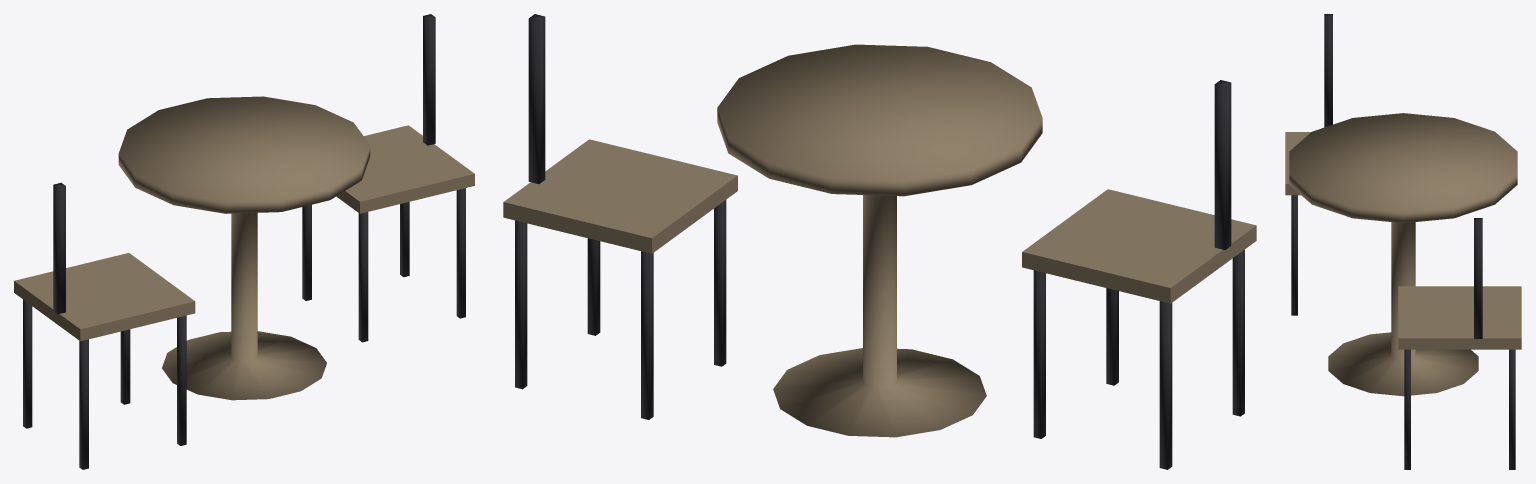
The model's file is city_bistro_set.glb.
The picture shows the model from 3 angles, left to right: view 1: azimuth 30°, elevation 25°; view 2: azimuth 150°, elevation 25°; view 3: azimuth 270°, elevation 25°; orthographic projection. The views are drawn at different scales.
Visible parts, largest first — view 1: CityBistroSet_Table, CityBistroSet_Seat1, CityBistroSet_Seat0, CityBistroSet_Back0, CityBistroSet_Back1, CityBistroSet_Leg0-0.17-0.17, CityBistroSet_Leg10.17-0.17, CityBistroSet_Leg1-0.17-0.17, CityBistroSet_Leg00.17-0.17, CityBistroSet_Leg1-0.170.17, CityBistroSet_Leg0-0.170.17, CityBistroSet_Leg10.170.17 (+1 smaller); view 2: CityBistroSet_Table, CityBistroSet_Seat0, CityBistroSet_Seat1, CityBistroSet_Back1, CityBistroSet_Back0, CityBistroSet_Leg1-0.170.17, CityBistroSet_Leg0-0.170.17, CityBistroSet_Leg10.170.17, CityBistroSet_Leg00.170.17, CityBistroSet_Leg0-0.17-0.17, CityBistroSet_Leg1-0.17-0.17, CityBistroSet_Leg00.17-0.17 (+1 smaller); view 3: CityBistroSet_Table, CityBistroSet_Seat0, CityBistroSet_Back0, CityBistroSet_Back1, CityBistroSet_Leg00.17-0.17, CityBistroSet_Leg00.170.17, CityBistroSet_Leg10.17-0.17, CityBistroSet_Seat1.
Part boxes in pixels (left/top/right/bottom): CityBistroSet_Table: left=118, top=96, right=370, bottom=400; CityBistroSet_Seat1: left=14, top=253, right=195, bottom=341; CityBistroSet_Seat0: left=336, top=125, right=474, bottom=213; CityBistroSet_Back0: left=423, top=14, right=435, bottom=145; CityBistroSet_Back1: left=53, top=182, right=65, bottom=314; CityBistroSet_Leg0-0.17-0.17: left=358, top=212, right=368, bottom=342; CityBistroSet_Leg10.17-0.17: left=177, top=315, right=186, bottom=445; CityBistroSet_Leg1-0.17-0.17: left=79, top=339, right=88, bottom=469; CityBistroSet_Leg00.17-0.17: left=456, top=188, right=465, bottom=318; CityBistroSet_Leg1-0.170.17: left=23, top=299, right=32, bottom=428; CityBistroSet_Leg0-0.170.17: left=302, top=204, right=311, bottom=300; CityBistroSet_Leg10.170.17: left=120, top=329, right=130, bottom=404; CityBistroSet_Table: left=717, top=44, right=1042, bottom=437; CityBistroSet_Seat0: left=503, top=139, right=737, bottom=253; CityBistroSet_Seat1: left=1022, top=189, right=1256, bottom=303; CityBistroSet_Back1: left=1214, top=80, right=1231, bottom=249; CityBistroSet_Back0: left=528, top=14, right=545, bottom=183; CityBistroSet_Leg1-0.170.17: left=1159, top=301, right=1172, bottom=469; CityBistroSet_Leg0-0.170.17: left=641, top=251, right=653, bottom=419; CityBistroSet_Leg10.170.17: left=1033, top=270, right=1045, bottom=438; CityBistroSet_Leg00.170.17: left=515, top=220, right=527, bottom=389; CityBistroSet_Leg0-0.17-0.17: left=714, top=200, right=726, bottom=366; CityBistroSet_Leg1-0.17-0.17: left=1232, top=249, right=1244, bottom=416; CityBistroSet_Leg00.17-0.17: left=587, top=238, right=600, bottom=335; CityBistroSet_Table: left=1289, top=113, right=1517, bottom=396; CityBistroSet_Seat0: left=1398, top=286, right=1521, bottom=349; CityBistroSet_Back0: left=1474, top=218, right=1482, bottom=338; CityBistroSet_Back1: left=1324, top=14, right=1332, bottom=127; CityBistroSet_Leg00.17-0.17: left=1404, top=349, right=1410, bottom=469; CityBistroSet_Leg00.170.17: left=1509, top=349, right=1515, bottom=469; CityBistroSet_Leg10.17-0.17: left=1291, top=195, right=1297, bottom=315; CityBistroSet_Seat1: left=1285, top=132, right=1310, bottom=195.
Size of the model in its own units: 1.6 by 0.9 by 0.7664.
